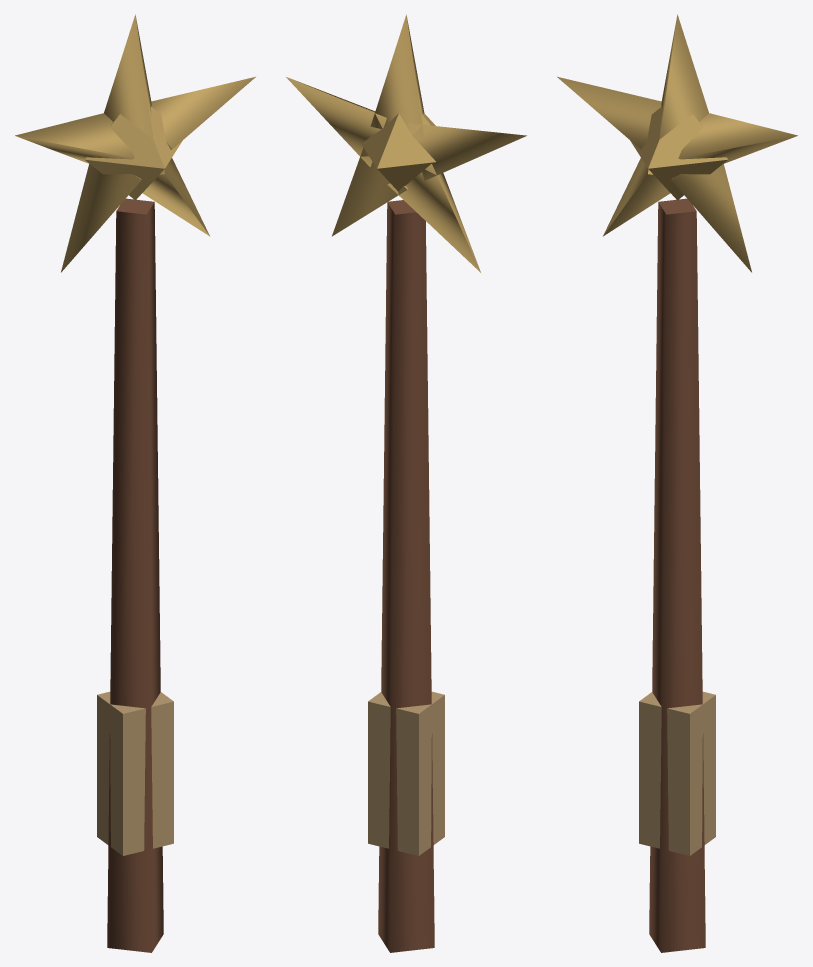
Rendered from fixed-staff-lod2.glb.
The picture shows the model from 3 angles, left to right: view 1: azimuth 30°, elevation 25°; view 2: azimuth 150°, elevation 25°; view 3: azimuth 330°, elevation 25°; orthographic projection.
Parts seen in each view (by area): view 1: piece_whole; view 2: piece_whole; view 3: piece_whole.
Boxes of the visible parts, x1,y1,x2,y2 form: piece_whole: (15, 14, 255, 952); piece_whole: (286, 14, 526, 952); piece_whole: (557, 14, 797, 952).
Size of the model in its own units: 0.428 by 1.56 by 0.18.
